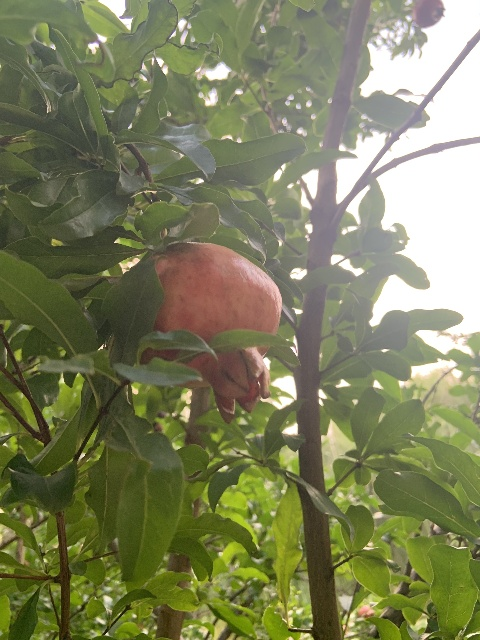ripe: (149, 242, 280, 419)
